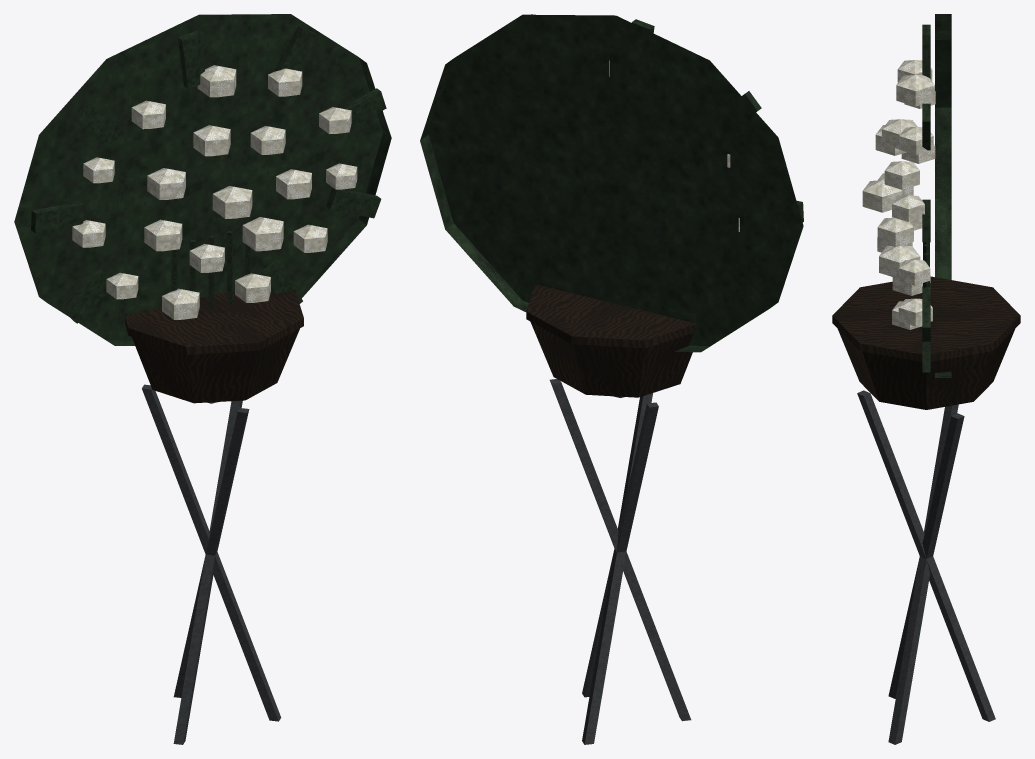
File: flower_stand.glb
3 renders of one model, left to right at view 1: azimuth 30°, elevation 25°; view 2: azimuth 150°, elevation 25°; view 3: azimuth 270°, elevation 25°, orthographic. The views are drawn at different scales.
Visible parts, largest first — view 1: flower_stand; view 2: flower_stand; view 3: flower_stand.
Boxes of the visible parts, <box> form: flower_stand: <box>14,14,391,744</box>; flower_stand: <box>420,14,803,744</box>; flower_stand: <box>832,14,1020,744</box>.
Bounding box in the file's own units: 1 × 1.8 × 0.45.
4 materials, 4 textured.
